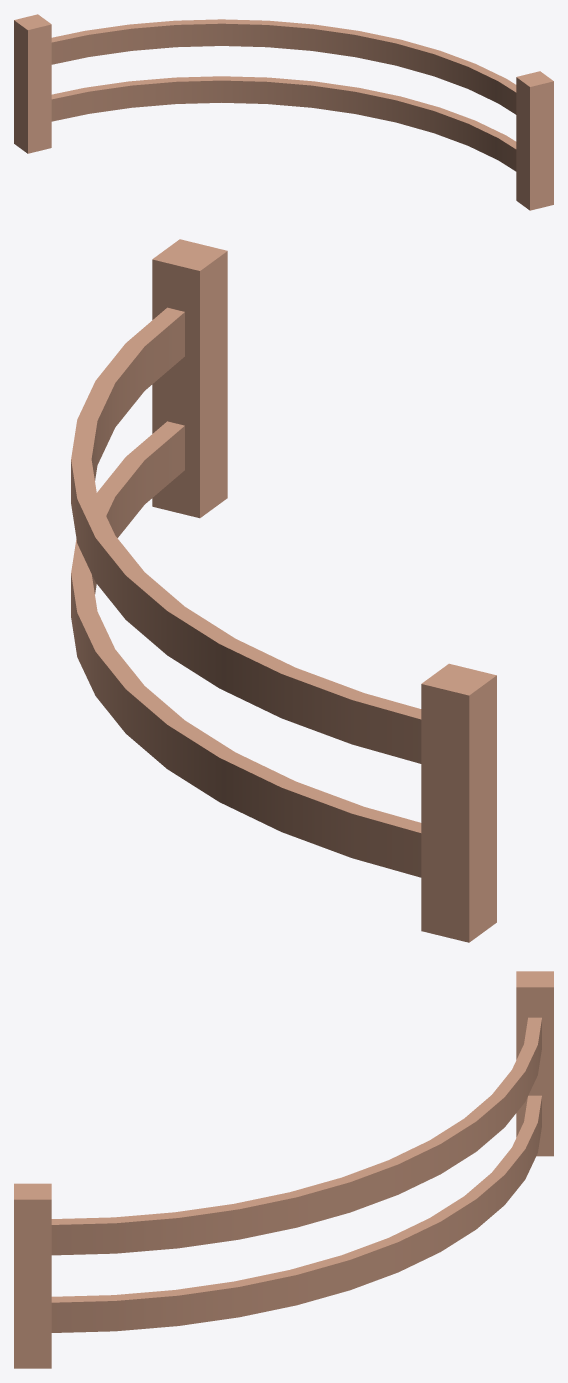
The model's file is fence_bend.glb.
3 renders of one model, top to bottom at view 1: azimuth 30°, elevation 25°; view 2: azimuth 150°, elevation 25°; view 3: azimuth 270°, elevation 25°, orthographic. The views are drawn at different scales.
Visible parts, largest first — view 1: fence_bend; view 2: fence_bend; view 3: fence_bend.
Part boxes in pixels (x1,y1,x2,y2): fence_bend: (14, 14, 553, 210); fence_bend: (71, 239, 496, 942); fence_bend: (14, 971, 553, 1368).
Bounding box in the file's own units: 1 × 0.345 × 1.
